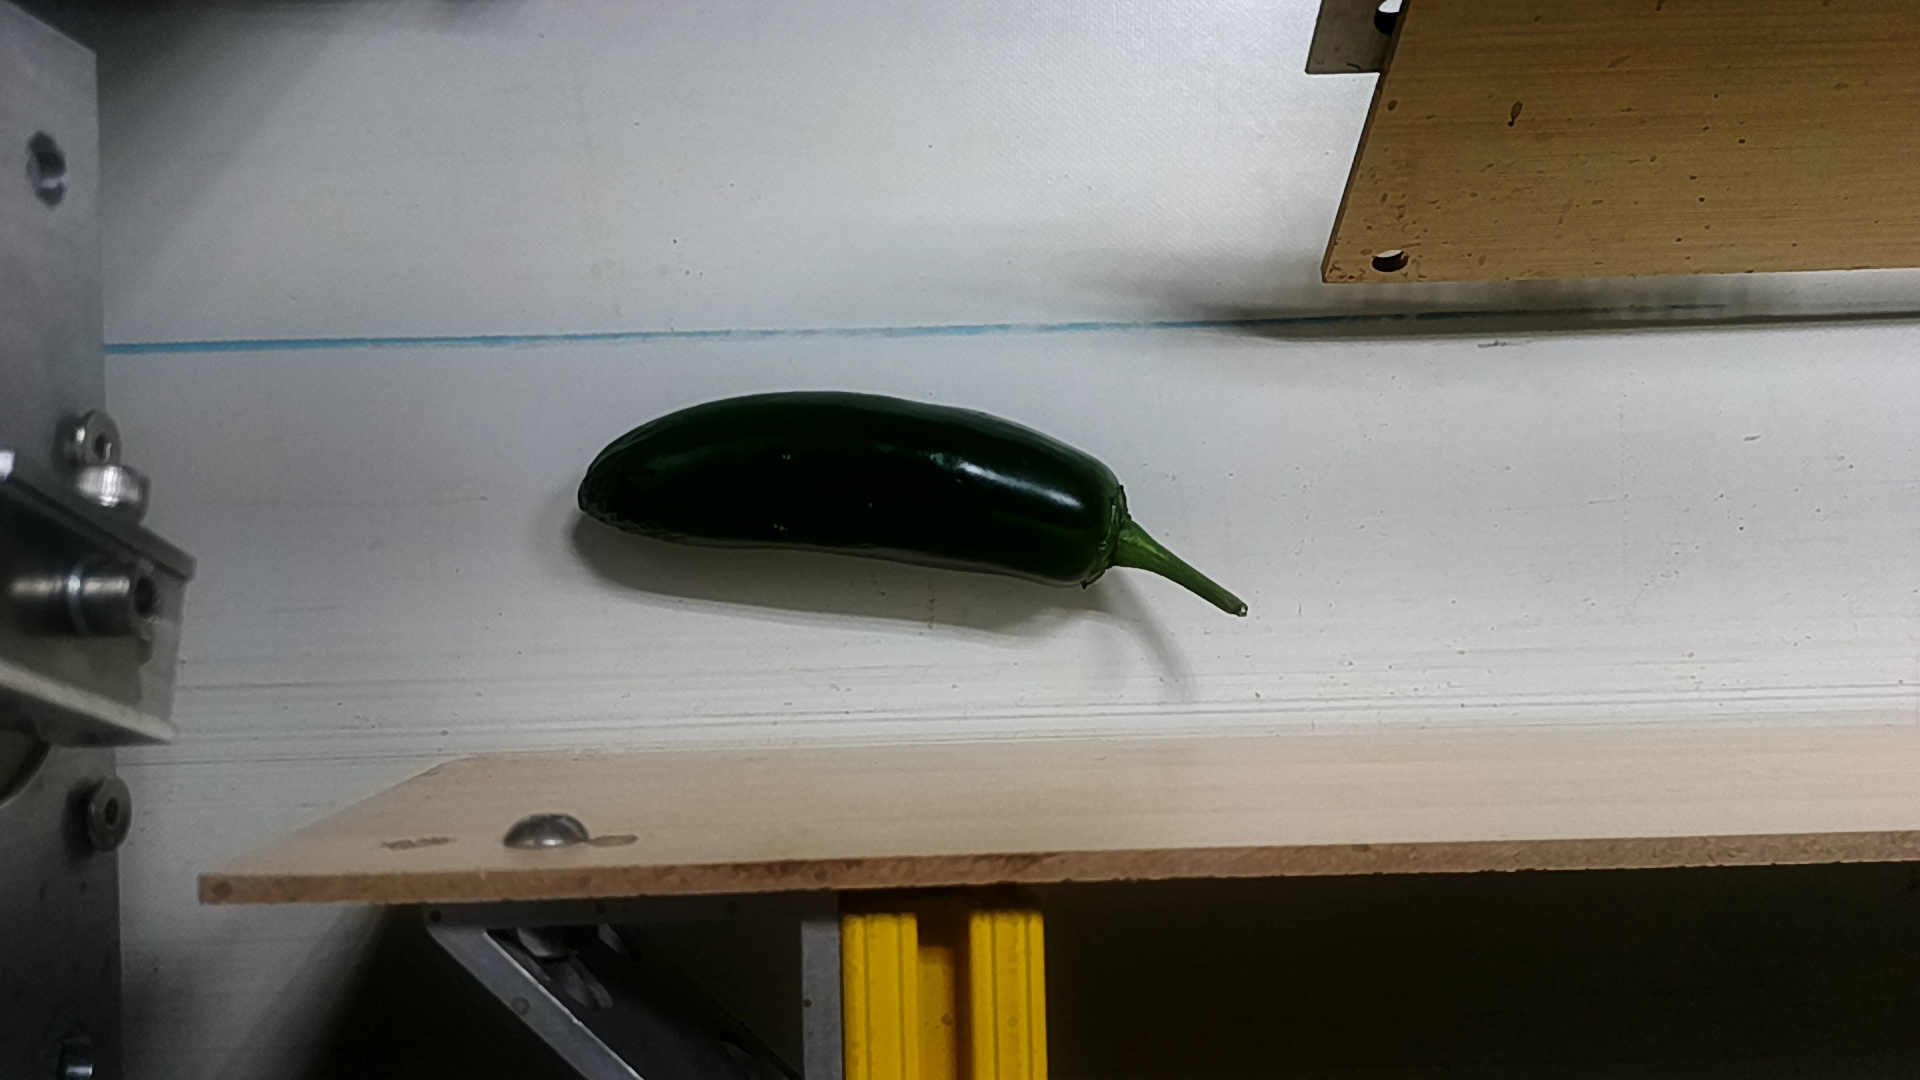Cut Point: (1048, 435, 1142, 597)
